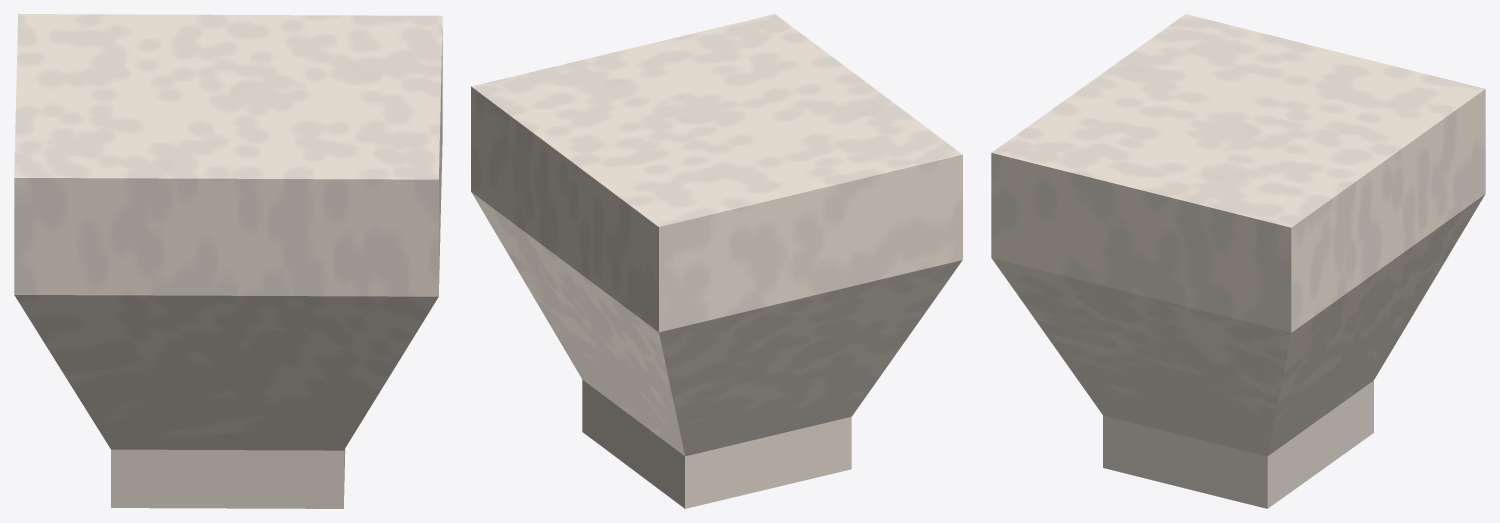
Rendered from Bottle_A_Cork.fbx.
3 renders of one model, left to right at view 1: azimuth 30°, elevation 25°; view 2: azimuth 150°, elevation 25°; view 3: azimuth 270°, elevation 25°, orthographic. The views are drawn at different scales.
Parts seen in each view (by area): view 1: Bottle_A_Cork; view 2: Bottle_A_Cork; view 3: Bottle_A_Cork.
Part boxes in pixels (bbox=[...]): Bottle_A_Cork: bbox=[14, 14, 442, 508]; Bottle_A_Cork: bbox=[471, 14, 962, 508]; Bottle_A_Cork: bbox=[991, 14, 1485, 508].
Size of the model in its own units: 229 by 164 by 223.
Materials: 1 (1 with a texture image).
